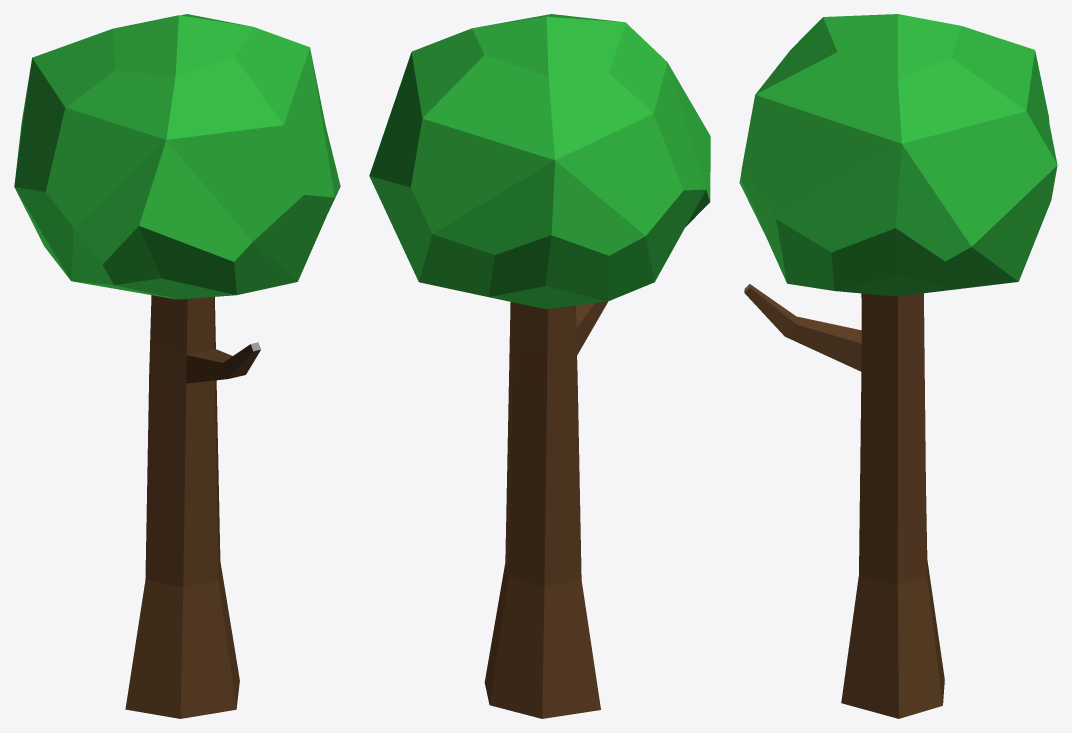
File: Tree001.FBX
3 views of the same model, side by side, from view 1: azimuth 30°, elevation 25°; view 2: azimuth 150°, elevation 25°; view 3: azimuth 270°, elevation 25° (orthographic).
Visible parts, largest first — view 1: tree001; view 2: tree001; view 3: tree001.
Part boxes in pixels (<box>): tree001: <box>14,14,340,718</box>; tree001: <box>369,14,710,718</box>; tree001: <box>739,14,1057,718</box>.
Size of the model in its own units: 58.67 by 136 by 58.05.
